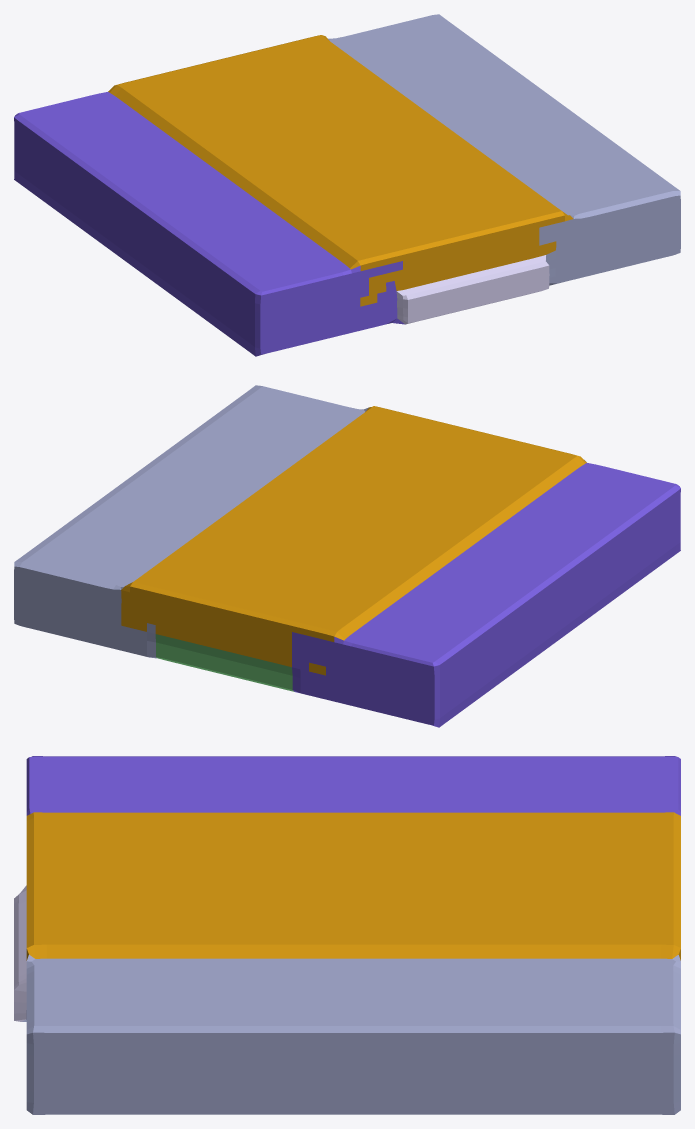
The model's file is nav_mesh_create02.glb.
3 views of the same model, one above another, from view 1: azimuth 30°, elevation 25°; view 2: azimuth 150°, elevation 25°; view 3: azimuth 270°, elevation 25° (orthographic). The views are drawn at different scales.
Visible parts, largest first — view 1: Mesh_1; view 2: Mesh_1; view 3: Mesh_1.
Part boxes in pixels (x1,y1,x2,y2): Mesh_1: (14,14,680,356); Mesh_1: (14,385,680,727); Mesh_1: (14,756,680,1114).
Bounding box in the file's own units: 150 × 24.08 × 153.
